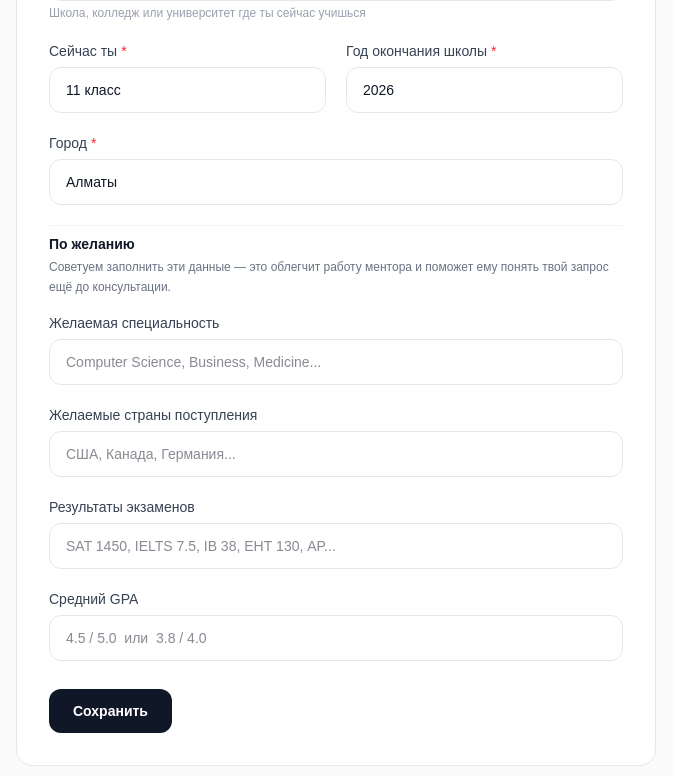
Test: StudentProfilePage (app/students/profile) › authenticated student › translates a known backend validation message instead of showing raw text
(page scrolled)
Click the button "Сохранить" at (110, 711), box 49,689 -> 172,733
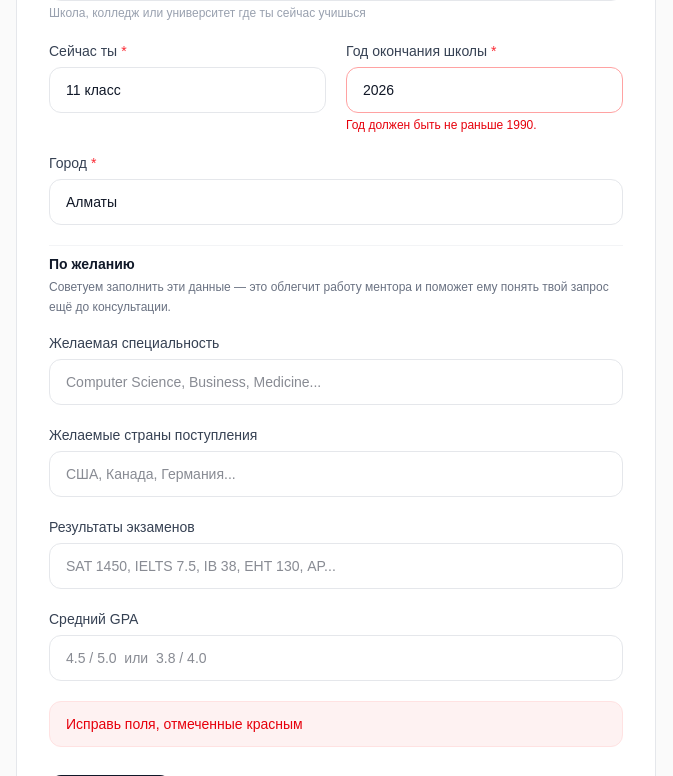
Now the text "Год должен быть не раньше 1990." is shown, box 346,118 -> 537,132
